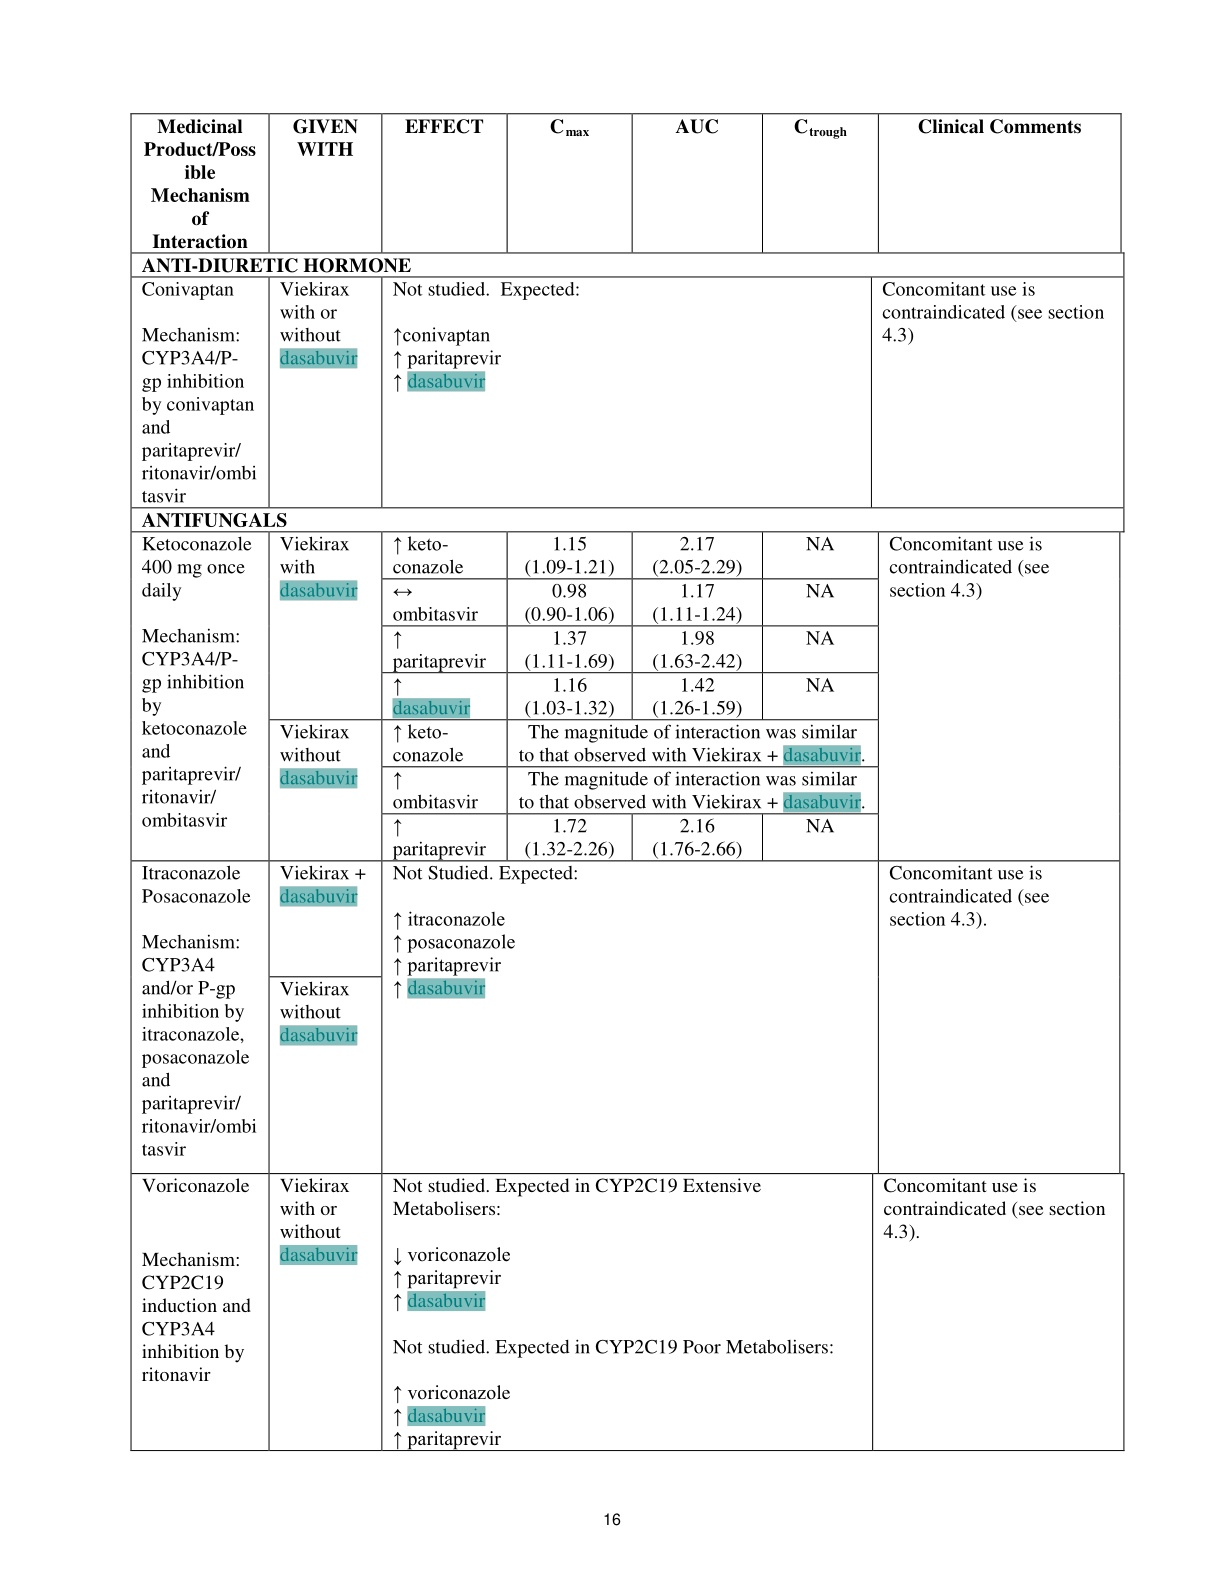merged_cells: (129, 111, 1126, 1453)
